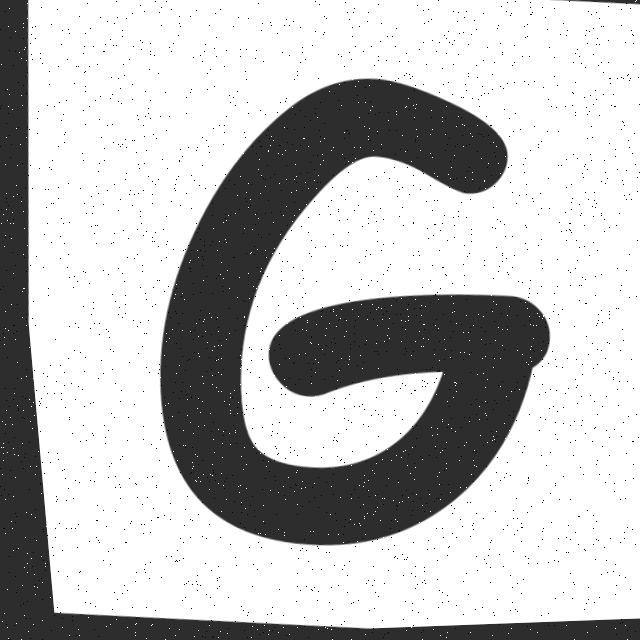G: (153, 81, 542, 546)
